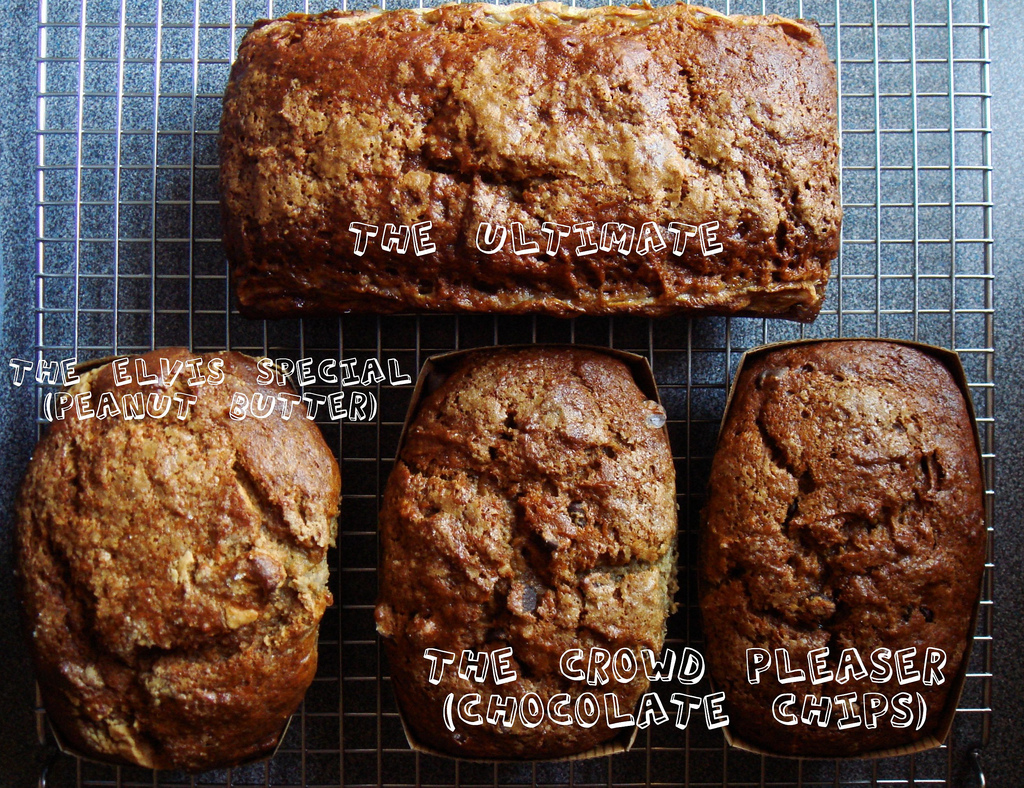slice of bread: (233, 16, 820, 303), (39, 355, 291, 757), (420, 366, 640, 735), (743, 360, 950, 744)
